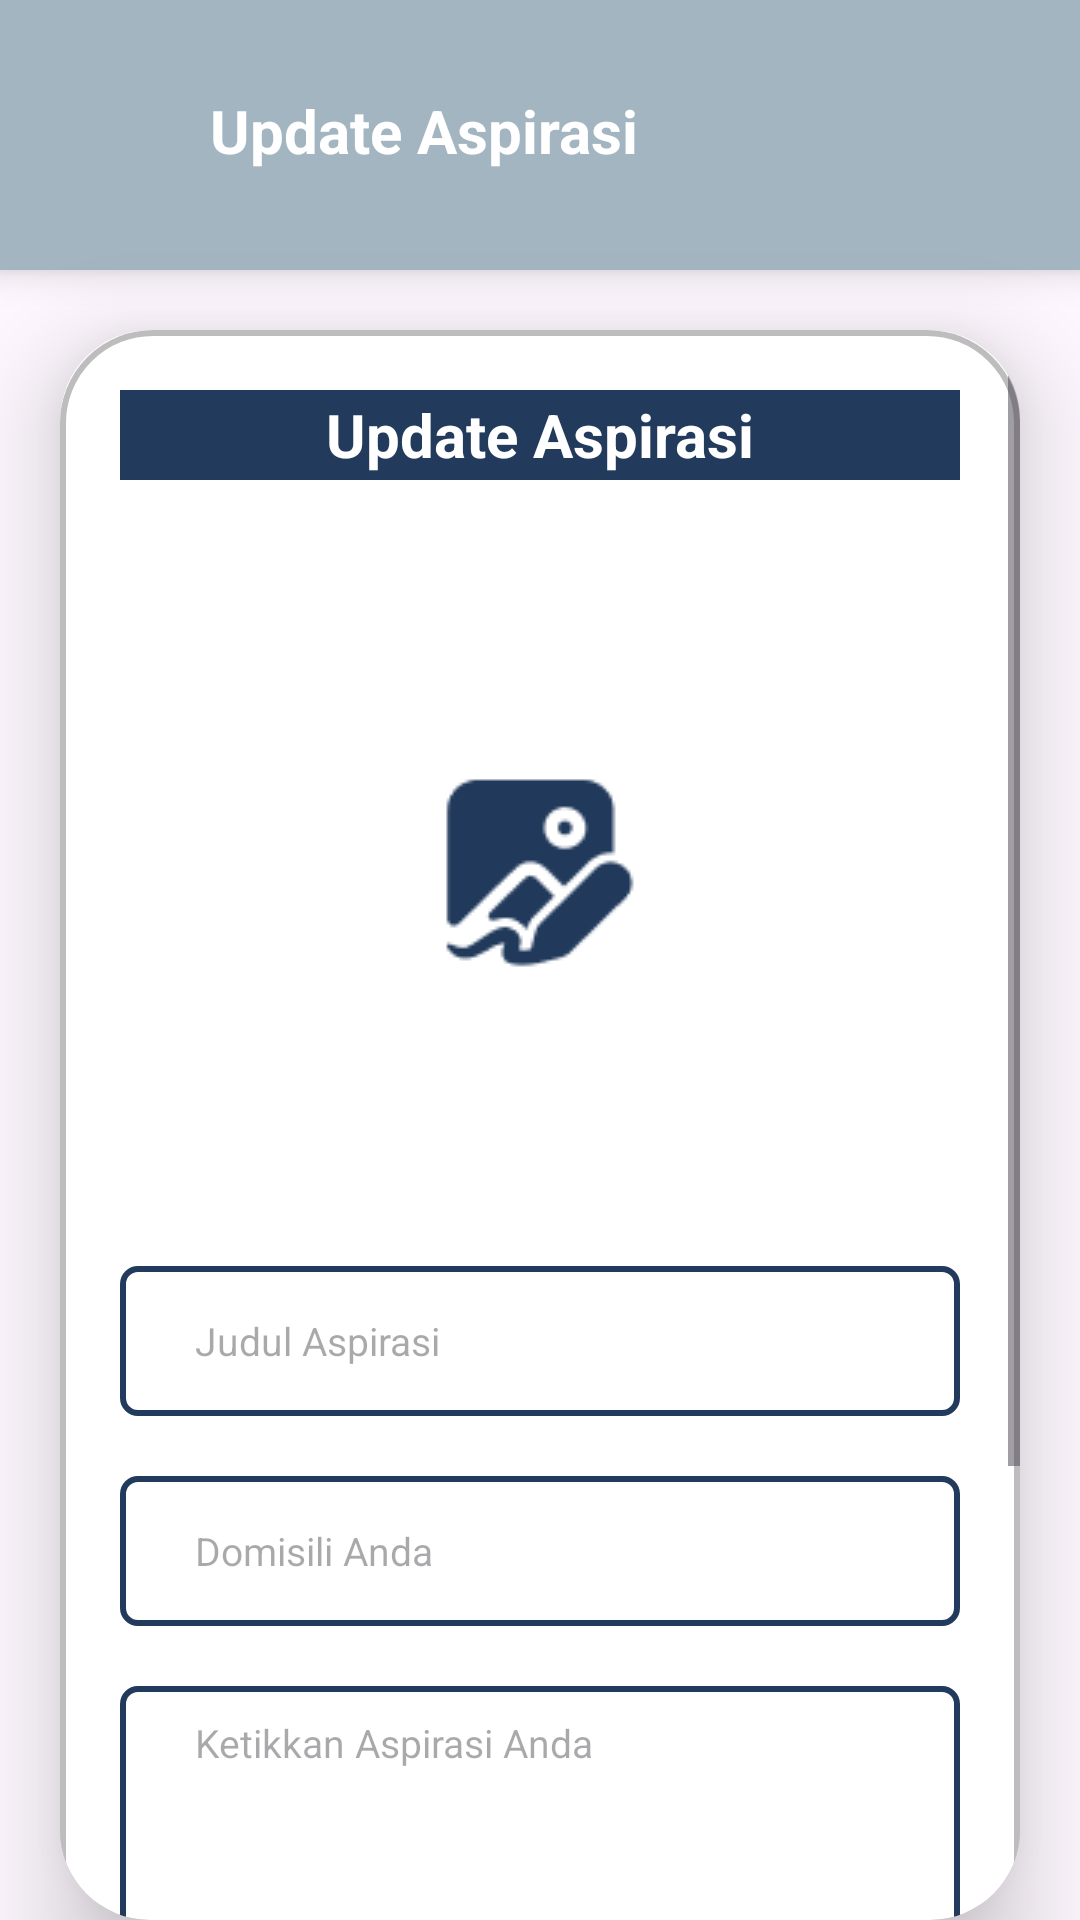

Icons on this 1080px x 1920px Android screen, each with the point to tap as [x,y]:
editgambar: [540,873]
